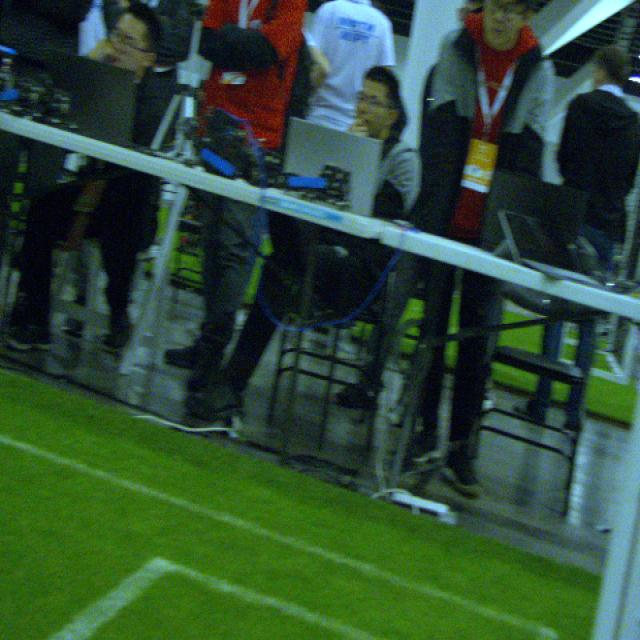goalpost: (591, 389, 639, 639)
